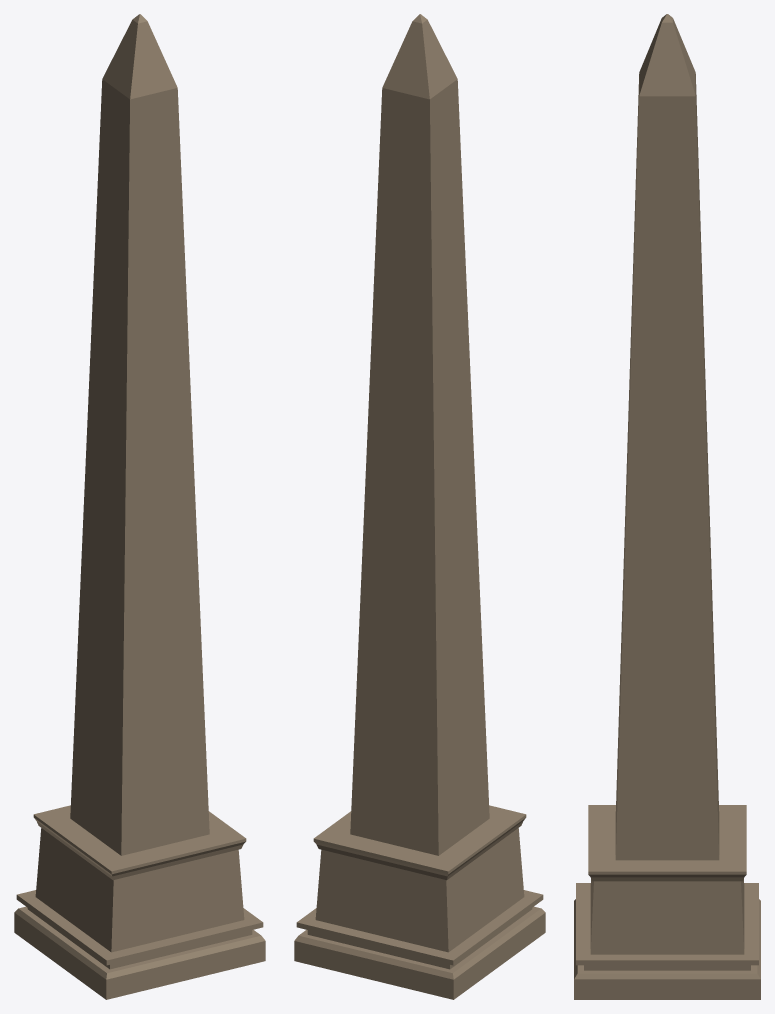
File: Obelisco.fbx
3 views of the same model, side by side, from view 1: azimuth 30°, elevation 25°; view 2: azimuth 150°, elevation 25°; view 3: azimuth 270°, elevation 25° (orthographic).
Visible parts, largest first — view 1: Obelisco_low; view 2: Obelisco_low; view 3: Obelisco_low.
Part boxes in pixels (left/top/right/bottom): Obelisco_low: left=14, top=14, right=265, bottom=999; Obelisco_low: left=294, top=14, right=545, bottom=999; Obelisco_low: left=574, top=14, right=760, bottom=999.
Size of the model in its own units: 3.16 by 17.65 by 3.16.
